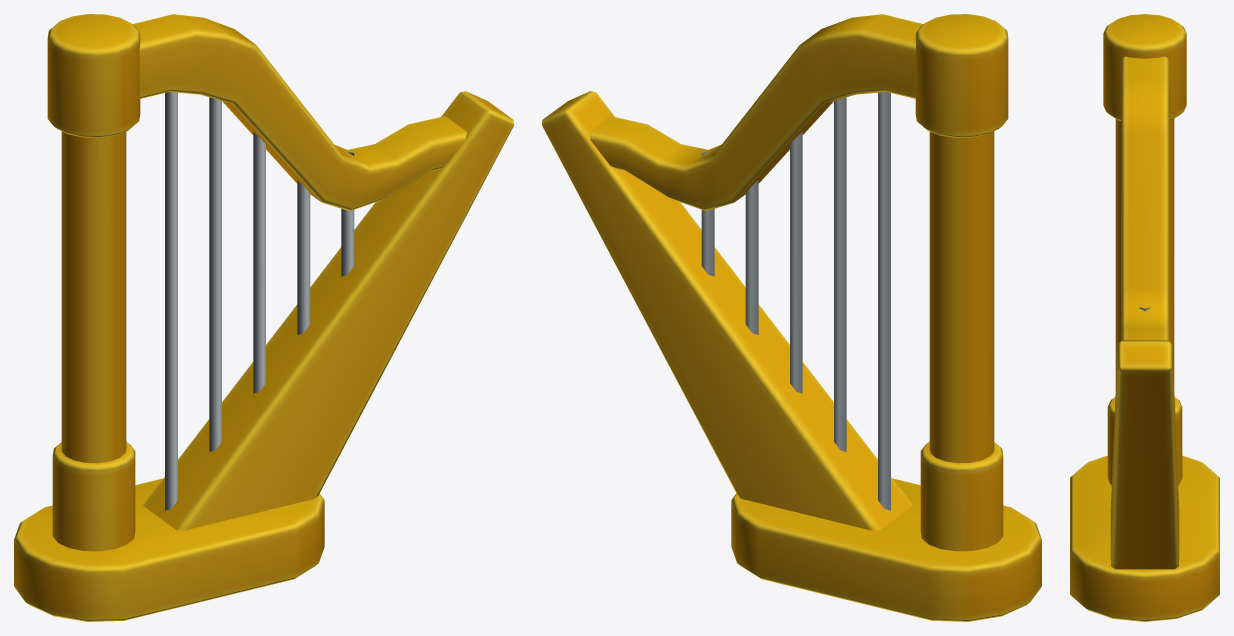
Rendered from harp_yellow.fbx.
3 renders of one model, left to right at view 1: azimuth 30°, elevation 25°; view 2: azimuth 150°, elevation 25°; view 3: azimuth 270°, elevation 25°, orthographic. The views are drawn at different scales.
Visible parts, largest first — view 1: harp_yellow; view 2: harp_yellow; view 3: harp_yellow.
Boxes of the visible parts, box(x1,y1,x2,y2) form: harp_yellow: box(14, 14, 513, 621); harp_yellow: box(542, 14, 1041, 621); harp_yellow: box(1070, 14, 1219, 621).
Size of the model in its own units: 1.07 by 1.2 by 0.326.
